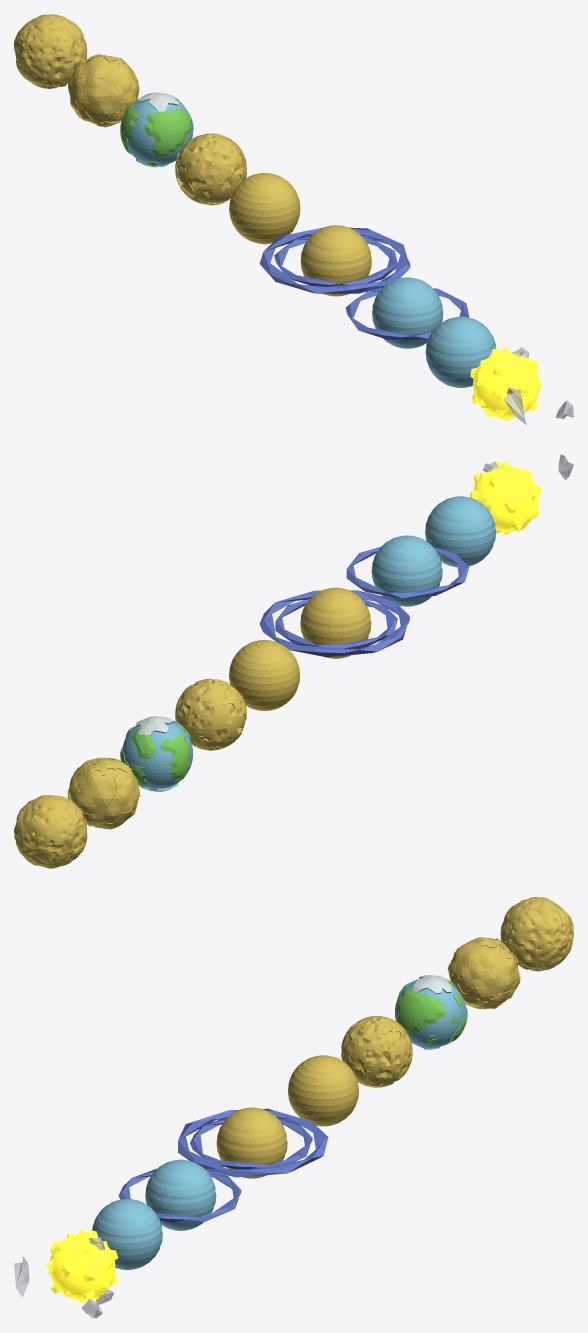
Rendered from Planets.fbx.
3 views of the same model, one above another, from view 1: azimuth 30°, elevation 25°; view 2: azimuth 150°, elevation 25°; view 3: azimuth 330°, elevation 25° (orthographic).
Visible parts, largest first — view 1: Mercurio, Terra, Marte, Jupter, Venus, Icosphere, Urano, Netuno, Saturno, Icosphere.005, Icosphere.004, Icosphere.000; view 2: Mercurio, Terra, Venus, Marte, Jupter, Netuno, Urano, Icosphere, Saturno, Icosphere.005, Icosphere.000, Icosphere.004; view 3: Mercurio, Terra, Marte, Jupter, Venus, Icosphere, Urano, Netuno, Saturno, Icosphere.005, Icosphere.004, Icosphere.000.
Boxes of the visible parts, x1,y1,x2,y2 form: Mercurio: (14, 14, 87, 88); Terra: (120, 92, 193, 167); Marte: (175, 133, 246, 205); Jupter: (229, 173, 300, 244); Venus: (68, 54, 139, 127); Icosphere: (470, 346, 541, 421); Urano: (372, 277, 443, 348); Netuno: (425, 316, 496, 387); Saturno: (300, 225, 371, 296); Icosphere.005: (259, 227, 410, 293); Icosphere.004: (274, 236, 397, 286); Icosphere.000: (345, 288, 469, 339); Mercurio: (14, 795, 87, 868); Terra: (120, 716, 192, 791); Venus: (67, 757, 140, 829); Marte: (175, 678, 246, 750); Jupter: (229, 640, 299, 710); Netuno: (425, 496, 496, 567); Urano: (371, 535, 442, 606); Icosphere: (470, 461, 541, 535); Saturno: (300, 587, 371, 658); Icosphere.005: (259, 590, 409, 657); Icosphere.000: (346, 547, 469, 598); Icosphere.004: (275, 599, 397, 649); Mercurio: (500, 897, 573, 971); Terra: (395, 975, 467, 1049); Marte: (341, 1016, 412, 1087); Jupter: (288, 1055, 358, 1126); Venus: (447, 937, 520, 1009); Icosphere: (46, 1228, 118, 1303); Urano: (145, 1159, 216, 1230); Netuno: (92, 1199, 162, 1269); Saturno: (216, 1107, 287, 1178); Icosphere.005: (178, 1108, 328, 1177); Icosphere.004: (190, 1116, 312, 1169); Icosphere.000: (118, 1168, 241, 1222).
Bounding box in the file's own units: 428 × 232 × 2889.
